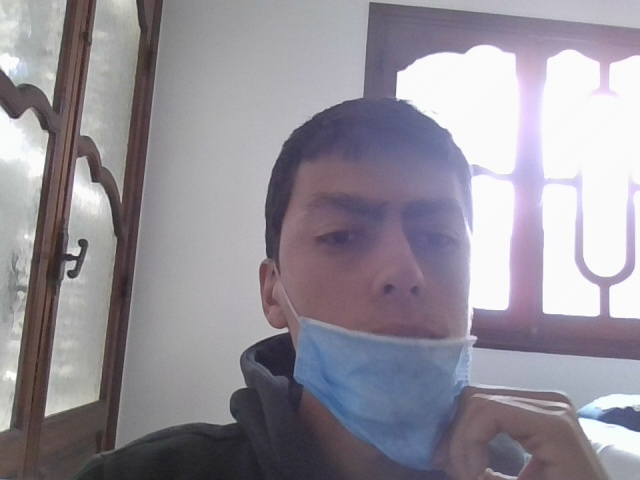mask_weared_incorrect: (281, 111, 503, 470)
